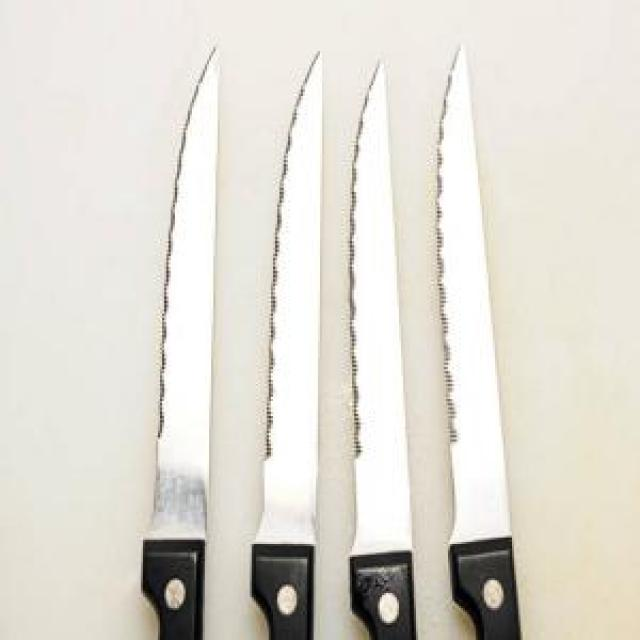knife: (437, 36, 524, 639), (239, 51, 326, 638), (139, 43, 224, 639), (339, 53, 420, 638)
